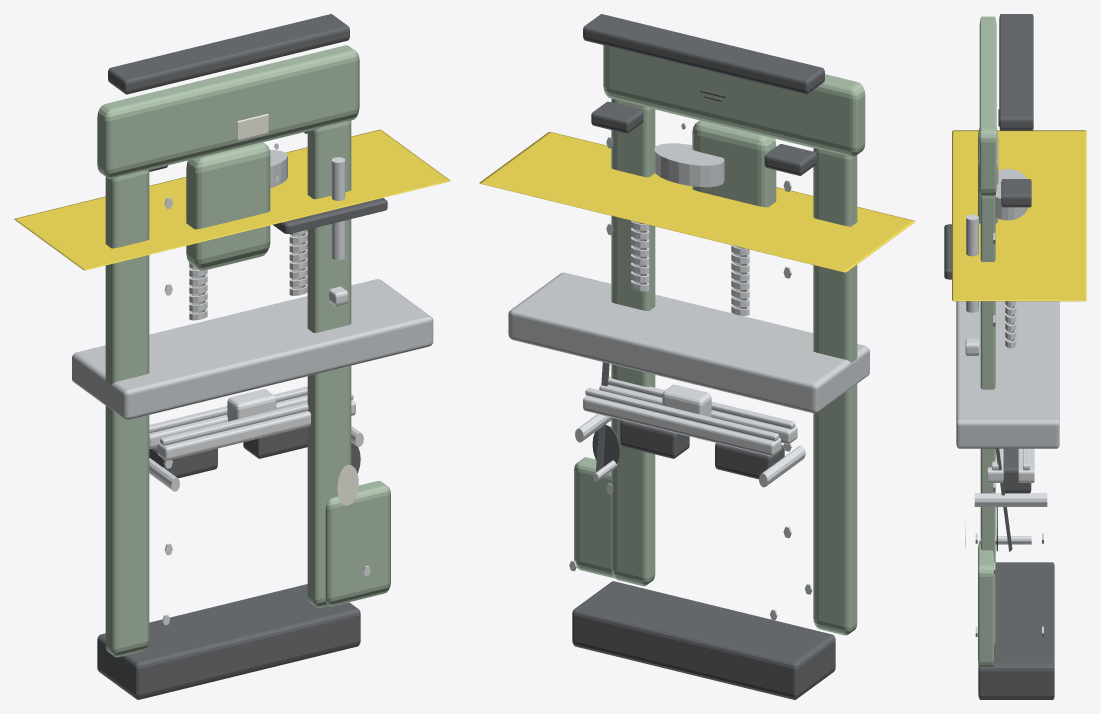
File: hydraulic_press.glb
3 views of the same model, side by side, from view 1: azimuth 30°, elevation 25°; view 2: azimuth 150°, elevation 25°; view 3: azimuth 270°, elevation 25° (orthographic). The views are drawn at different scales.
Visible parts, largest first — view 1: machine-shop-and-factory-hall-hydraulic-press, press-ram/steel, press-ram/charcoal; view 2: machine-shop-and-factory-hall-hydraulic-press; view 3: machine-shop-and-factory-hall-hydraulic-press, press-ram/steel, press-ram/charcoal.
Boxes of the visible parts, box(x1,y1,x2,y2) form: machine-shop-and-factory-hall-hydraulic-press: box(14, 14, 450, 699); press-ram/steel: box(329, 157, 347, 306); press-ram/charcoal: box(273, 198, 387, 233); machine-shop-and-factory-hall-hydraulic-press: box(479, 14, 915, 699); machine-shop-and-factory-hall-hydraulic-press: box(952, 14, 1086, 699); press-ram/steel: box(965, 214, 979, 356); press-ram/charcoal: box(944, 224, 951, 279).
Bounding box in the file's own units: 93058 × 148435 × 32850.
